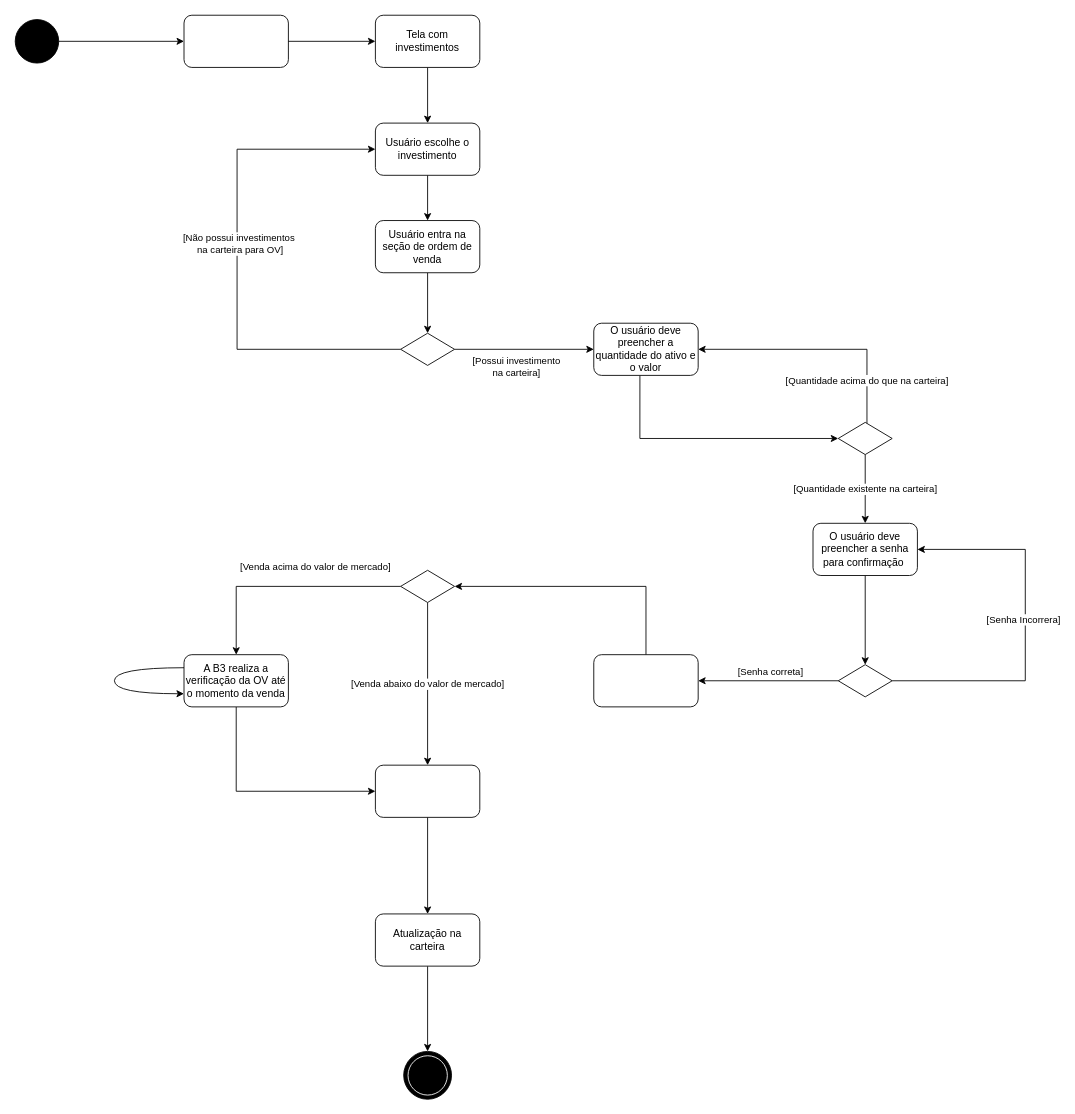
Image size: 1075x1114. Some labels were removed from this diagram. Here are the shapes that lost their labels. From the top down, the centre of each, then its label:
the point at 235,40: Usuário entra na seção de investimentos
the point at 645,680: O usuário recebe dados de confirmação
the point at 427,790: Venda emitida
